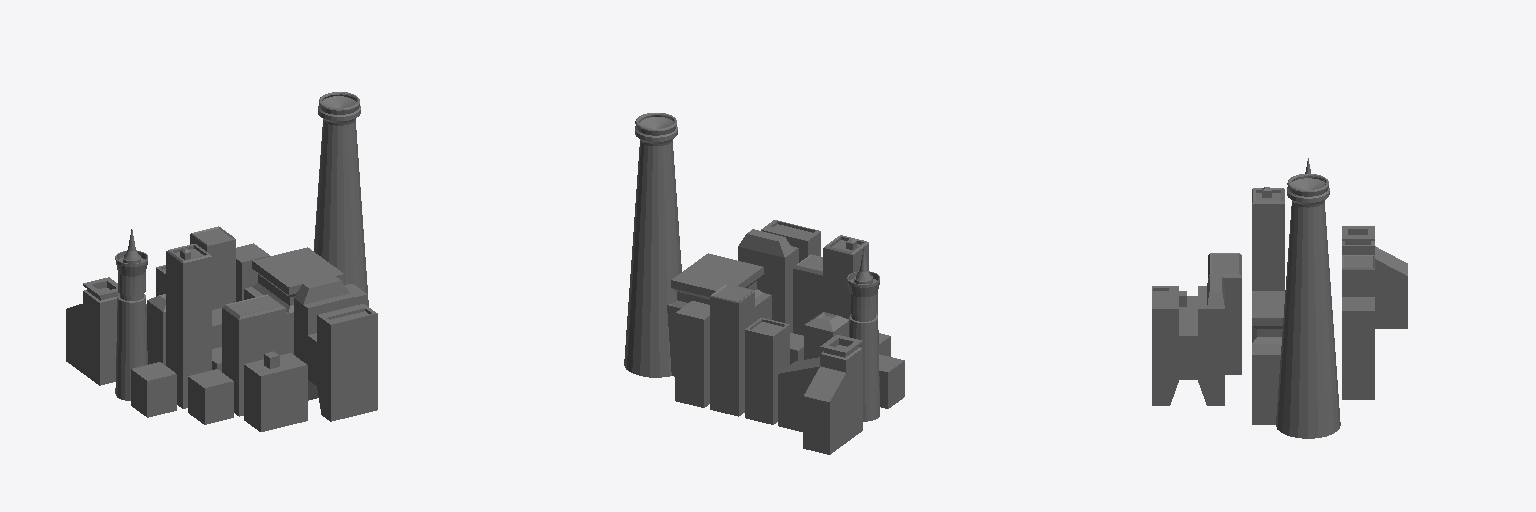
The model's file is CITY.obj.
3 views of the same model, side by side, from view 1: azimuth 30°, elevation 25°; view 2: azimuth 150°, elevation 25°; view 3: azimuth 270°, elevation 25° (orthographic).
Parts seen in each view (by area): view 1: City CITY B_G4_1 UV_Group4, Chimney City, City CITY B_G3_1 UV_Group3, City CITY B_G2_1 UV_Group2, City CITY UV_Group3 B_G3_3, City CITY UV_Group2 B_G2_2, City CITY UV_Group3 B_G3_2, City CITY UV_Group4 B_G4_2, City CITY UV_Group2 B_G2_4, City UV_Group1 CITY B_G1_4, City UV_Group1 CITY B_G1_5, City CITY UV_Group2 B_G2_5 (+1 smaller); view 2: Chimney City, City CITY UV_Group3 B_G3_3, City CITY UV_Group2 B_G2_4, City CITY B_G4_1 UV_Group4, City CITY UV_Group2 B_G2_3, City CITY UV_Group4 B_G4_2, City UV_Group1 CITY B_G1_3, City CITY UV_Group3 B_G3_2, City CITY B_G3_1 UV_Group3, City CITY B_G2_1 UV_Group2, City CITY UV_Group2 B_G2_5, City UV_Group1 CITY B_G1_4; view 3: Chimney City, City CITY B_G4_1 UV_Group4, City CITY UV_Group4 B_G4_2, City CITY B_G3_1 UV_Group3, City CITY UV_Group3 B_G3_3, City UV_Group1 CITY B_G1_3, City CITY B_G2_1 UV_Group2, City CITY UV_Group2 B_G2_4.
Boxes of the visible parts, x1,y1,x2,y2 form: City CITY B_G4_1 UV_Group4: [294, 276, 377, 421]; Chimney City: [314, 92, 368, 306]; City CITY B_G3_1 UV_Group3: [166, 244, 211, 408]; City CITY B_G2_1 UV_Group2: [222, 294, 285, 416]; City CITY UV_Group3 B_G3_3: [66, 277, 146, 385]; City CITY UV_Group2 B_G2_2: [244, 351, 307, 431]; City CITY UV_Group3 B_G3_2: [115, 229, 147, 400]; City CITY UV_Group4 B_G4_2: [244, 247, 367, 354]; City CITY UV_Group2 B_G2_4: [190, 226, 235, 309]; City UV_Group1 CITY B_G1_4: [131, 362, 176, 417]; City UV_Group1 CITY B_G1_5: [188, 369, 233, 424]; City CITY UV_Group2 B_G2_5: [147, 294, 165, 365]; Chimney City: [624, 113, 681, 377]; City CITY UV_Group3 B_G3_3: [778, 335, 862, 454]; City CITY UV_Group2 B_G2_4: [710, 284, 754, 416]; City CITY B_G4_1 UV_Group4: [738, 220, 820, 332]; City CITY UV_Group2 B_G2_3: [745, 318, 789, 424]; City CITY UV_Group4 B_G4_2: [667, 253, 771, 376]; City UV_Group1 CITY B_G1_3: [675, 301, 709, 407]; City CITY UV_Group3 B_G3_2: [847, 249, 879, 421]; City CITY B_G3_1 UV_Group3: [823, 235, 868, 318]; City CITY B_G2_1 UV_Group2: [793, 254, 822, 335]; City CITY UV_Group2 B_G2_5: [804, 312, 848, 359]; City UV_Group1 CITY B_G1_4: [879, 354, 904, 408]; Chimney City: [1276, 174, 1340, 438]; City CITY B_G4_1 UV_Group4: [1152, 276, 1224, 405]; City CITY UV_Group4 B_G4_2: [1252, 291, 1284, 424]; City CITY B_G3_1 UV_Group3: [1252, 187, 1284, 290]; City CITY UV_Group3 B_G3_3: [1342, 226, 1407, 328]; City UV_Group1 CITY B_G1_3: [1342, 297, 1374, 399]; City CITY B_G2_1 UV_Group2: [1208, 253, 1241, 374]; City CITY UV_Group2 B_G2_4: [1342, 255, 1374, 296].
Bounding box in the file's own units: 34.9 × 32.27 × 30.8.